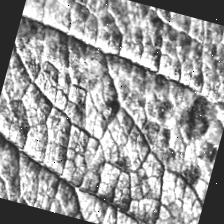Angular Leafspot: (0, 24, 224, 224)
